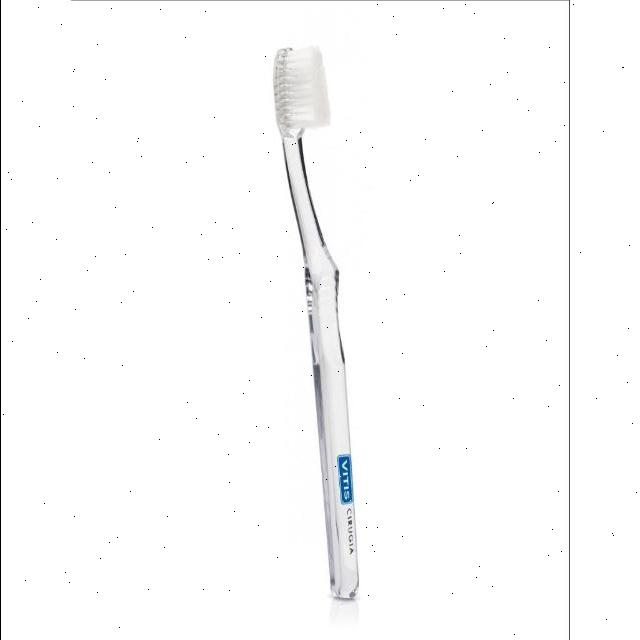toothbrush: (268, 2, 374, 640)
